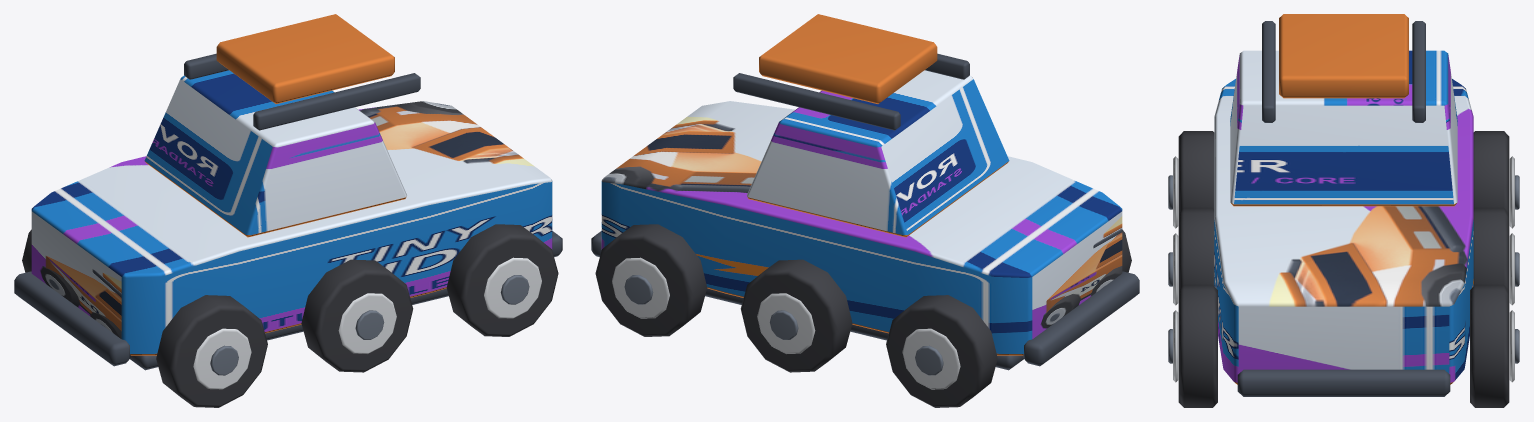
3 renders of one model, left to right at view 1: azimuth 30°, elevation 25°; view 2: azimuth 150°, elevation 25°; view 3: azimuth 270°, elevation 25°, orthographic. The views are drawn at different scales.
Visible parts, largest first — view 1: FF-04_connected_shell, FF-04_cabin, utility load, Tire, Tire.002, Tire.004, front bumper, utility rail, Rim, Rim.004, Rim.002, underbody (+4 smaller); view 2: FF-04_connected_shell, FF-04_cabin, utility load, Tire.001, Tire.003, Tire.005, front bumper, utility rail.001, Rim.001, Rim.005, Rim.003, underbody (+4 smaller); view 3: FF-04_connected_shell, FF-04_cabin, utility load, rear bumper, Tire.004, Tire.005, Tire.002, Tire.003, Tire, Tire.001, utility rail, utility rail.001 (+6 smaller).
Boxes of the visible parts, x1=… form: FF-04_connected_shell: x1=31, y1=101, x2=552, y2=355; FF-04_cabin: x1=144, y1=70, x2=406, y2=237; utility load: x1=216, y1=14, x2=394, y2=103; Tire: x1=156, y1=295, x2=267, y2=407; Tire.002: x1=301, y1=259, x2=413, y2=372; Tire.004: x1=446, y1=224, x2=558, y2=336; front bumper: x1=14, y1=271, x2=130, y2=366; utility rail: x1=253, y1=73, x2=420, y2=130; Rim: x1=193, y1=328, x2=251, y2=389; Rim.004: x1=484, y1=257, x2=541, y2=318; Rim.002: x1=338, y1=293, x2=396, y2=353; underbody: x1=130, y1=288, x2=448, y2=370; FF-04_connected_shell: x1=601, y1=101, x2=1122, y2=355; FF-04_cabin: x1=747, y1=70, x2=1009, y2=237; utility load: x1=759, y1=14, x2=937, y2=103; Tire.001: x1=886, y1=295, x2=997, y2=407; Tire.003: x1=740, y1=259, x2=852, y2=372; Tire.005: x1=595, y1=224, x2=707, y2=336; front bumper: x1=1023, y1=271, x2=1139, y2=366; utility rail.001: x1=733, y1=73, x2=900, y2=130; Rim.001: x1=902, y1=328, x2=960, y2=389; Rim.005: x1=612, y1=257, x2=669, y2=318; Rim.003: x1=757, y1=293, x2=815, y2=353; underbody: x1=705, y1=288, x2=1023, y2=370; FF-04_connected_shell: x1=1214, y1=79, x2=1473, y2=384; FF-04_cabin: x1=1230, y1=50, x2=1457, y2=206; utility load: x1=1279, y1=14, x2=1408, y2=98; rear bumper: x1=1237, y1=369, x2=1450, y2=396; Tire.004: x1=1178, y1=284, x2=1217, y2=407; Tire.005: x1=1470, y1=284, x2=1509, y2=407; Tire.002: x1=1178, y1=207, x2=1214, y2=289; Tire.003: x1=1473, y1=207, x2=1509, y2=289; Tire: x1=1178, y1=131, x2=1214, y2=212; Tire.001: x1=1473, y1=131, x2=1509, y2=212; utility rail: x1=1262, y1=21, x2=1275, y2=122; utility rail.001: x1=1412, y1=21, x2=1425, y2=122.
Bounding box in the file's own units: 378 × 212 × 233.
